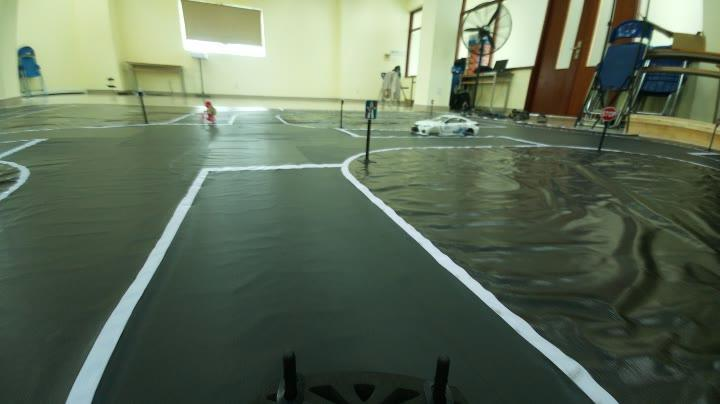highway_exit: (360, 97, 380, 120)
